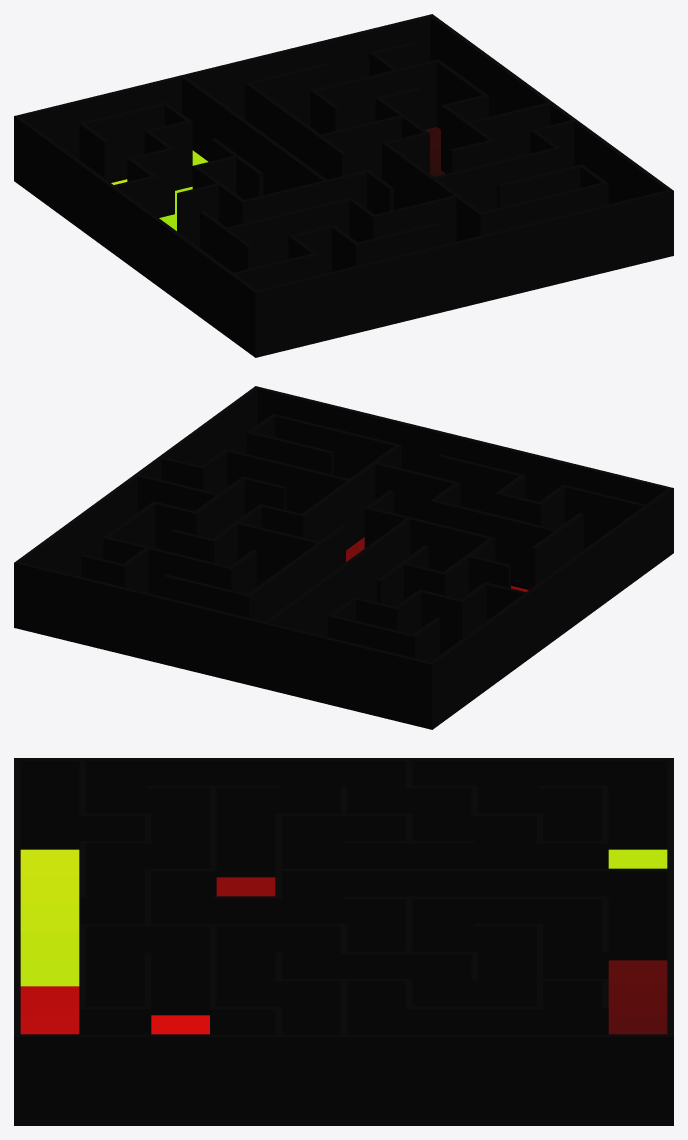
Rendered from SquareMaze.fbx.
3 views of the same model, one above another, from view 1: azimuth 30°, elevation 25°; view 2: azimuth 150°, elevation 25°; view 3: azimuth 270°, elevation 25° (orthographic). The views are drawn at different scales.
Parts seen in each view (by area): view 1: MG_Walls, MG_Cells; view 2: MG_Walls; view 3: MG_Walls, MG_Cells.
Boxes of the visible parts, x1,y1,x2,y2 form: MG_Walls: (14, 14, 673, 357); MG_Cells: (111, 127, 445, 230); MG_Walls: (14, 386, 673, 729); MG_Walls: (14, 758, 673, 1125); MG_Cells: (20, 849, 667, 1034).
Size of the model in its own units: 1010 by 150 by 1010.
